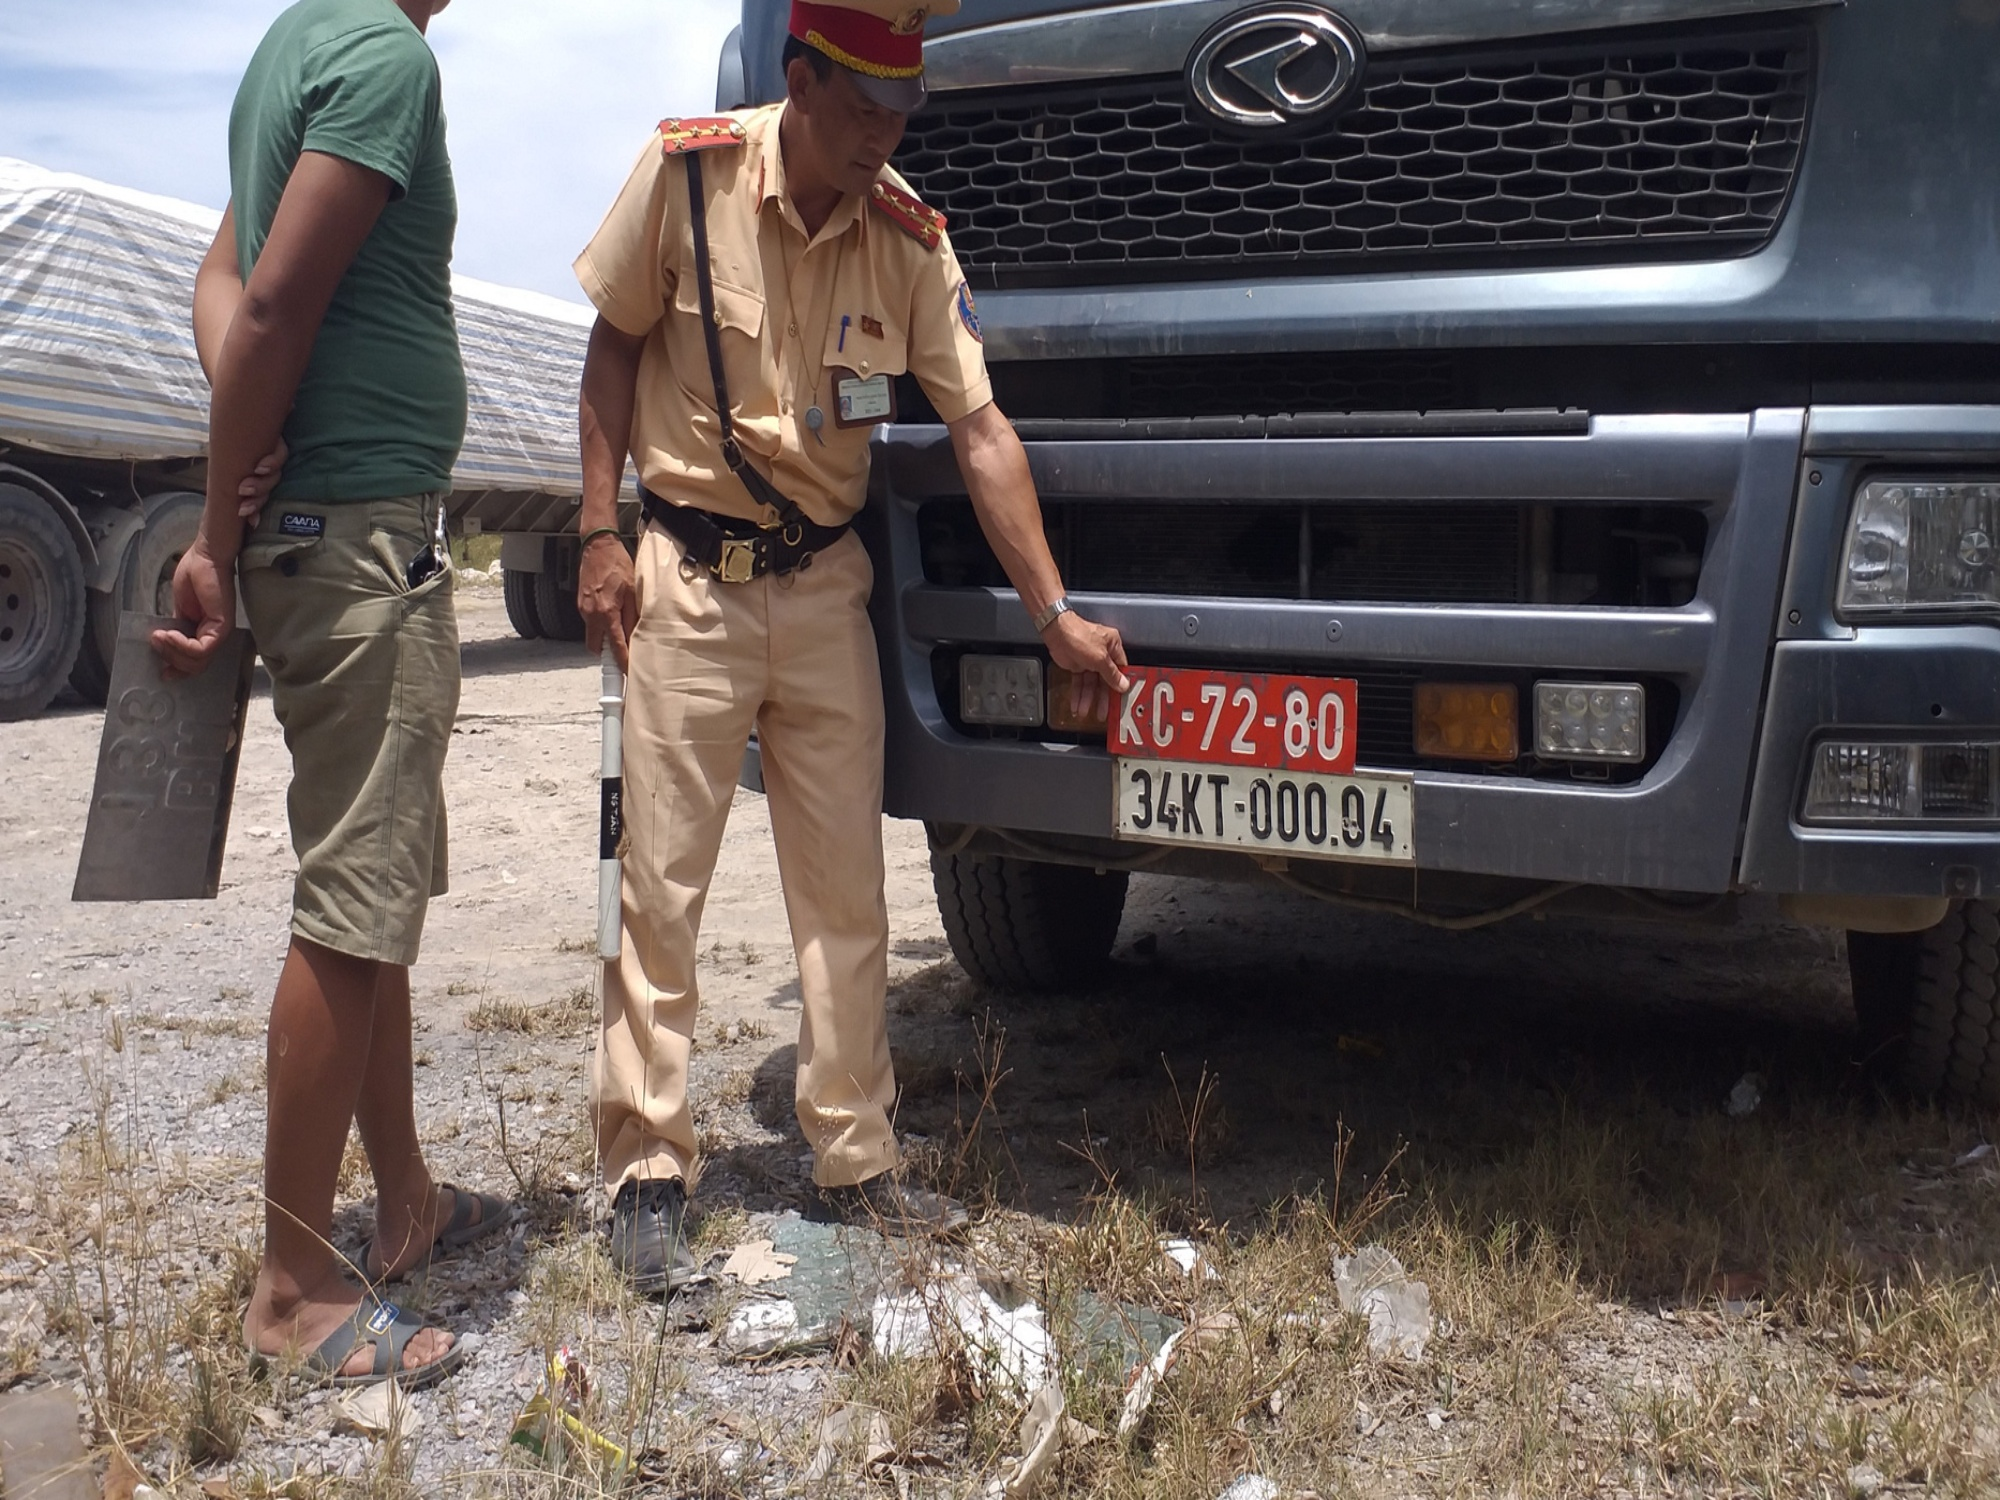plate: (1124, 758, 1418, 870), (1109, 660, 1363, 770)
